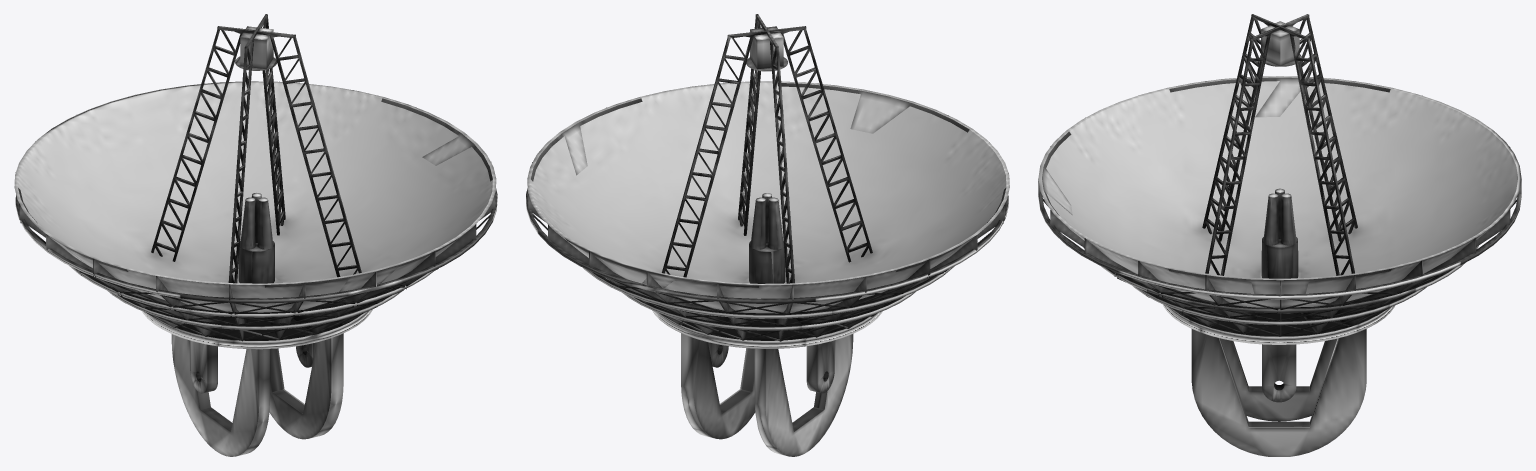
Rendered from dish.glb.
The picture shows the model from 3 angles, left to right: view 1: azimuth 30°, elevation 25°; view 2: azimuth 150°, elevation 25°; view 3: azimuth 270°, elevation 25°; orthographic projection.
Visible parts, largest first — view 1: 70m_rev_e.; view 2: 70m_rev_e.; view 3: 70m_rev_e..
Part boxes in pixels (<box>): 70m_rev_e.: <box>14,14,497,456</box>; 70m_rev_e.: <box>526,14,1009,456</box>; 70m_rev_e.: <box>1038,14,1521,456</box>.
Size of the model in its own units: 91.57 by 85.54 by 91.32.
1 material, 1 textured.
